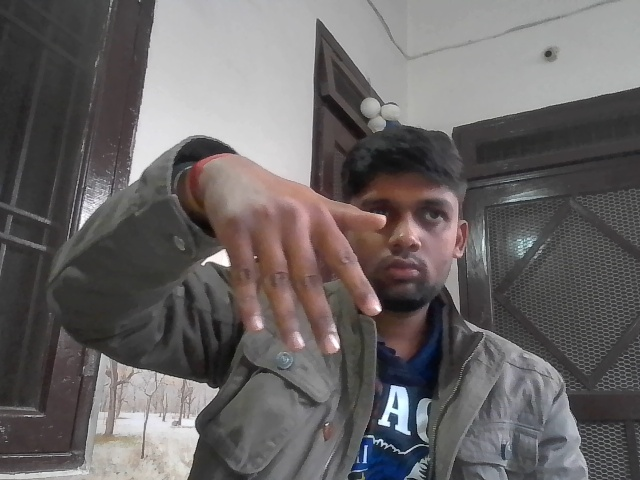HowAreYou: (199, 142, 392, 356)
